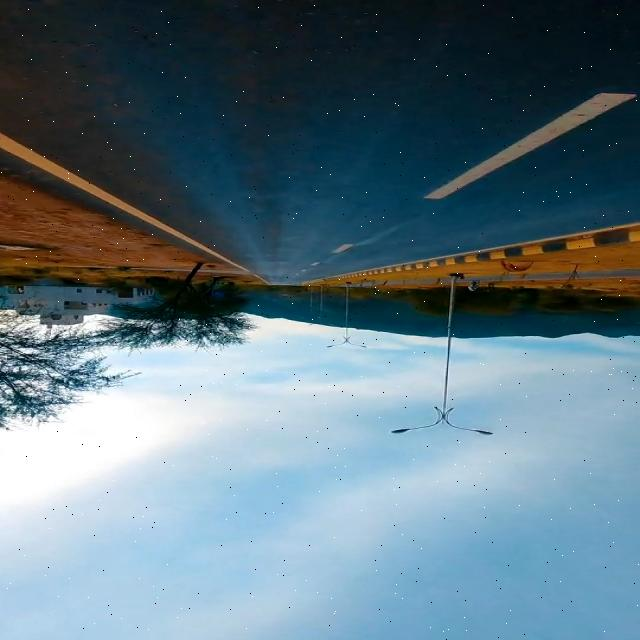lane: (0, 133, 269, 285), (424, 93, 635, 199)
road: (2, 1, 638, 284), (424, 93, 635, 199)
